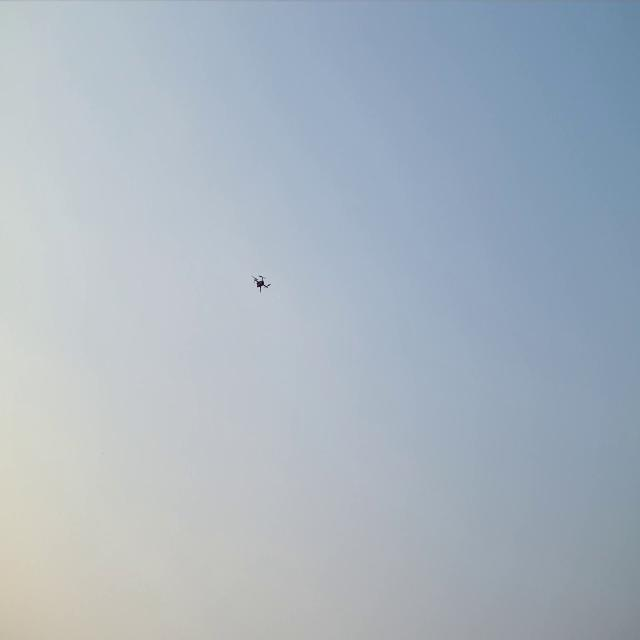UAV: (250, 274, 272, 295)
